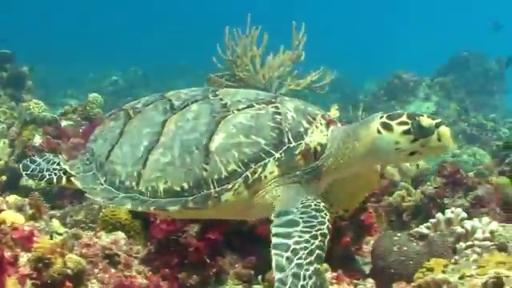Fish: (20, 88, 452, 287)
